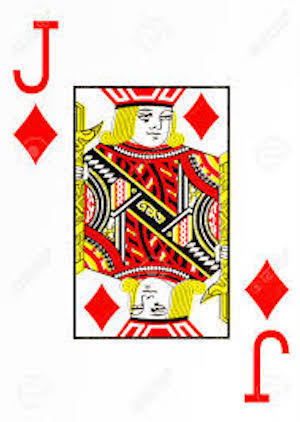JackOfDiamonds: (2, 7, 300, 415)
